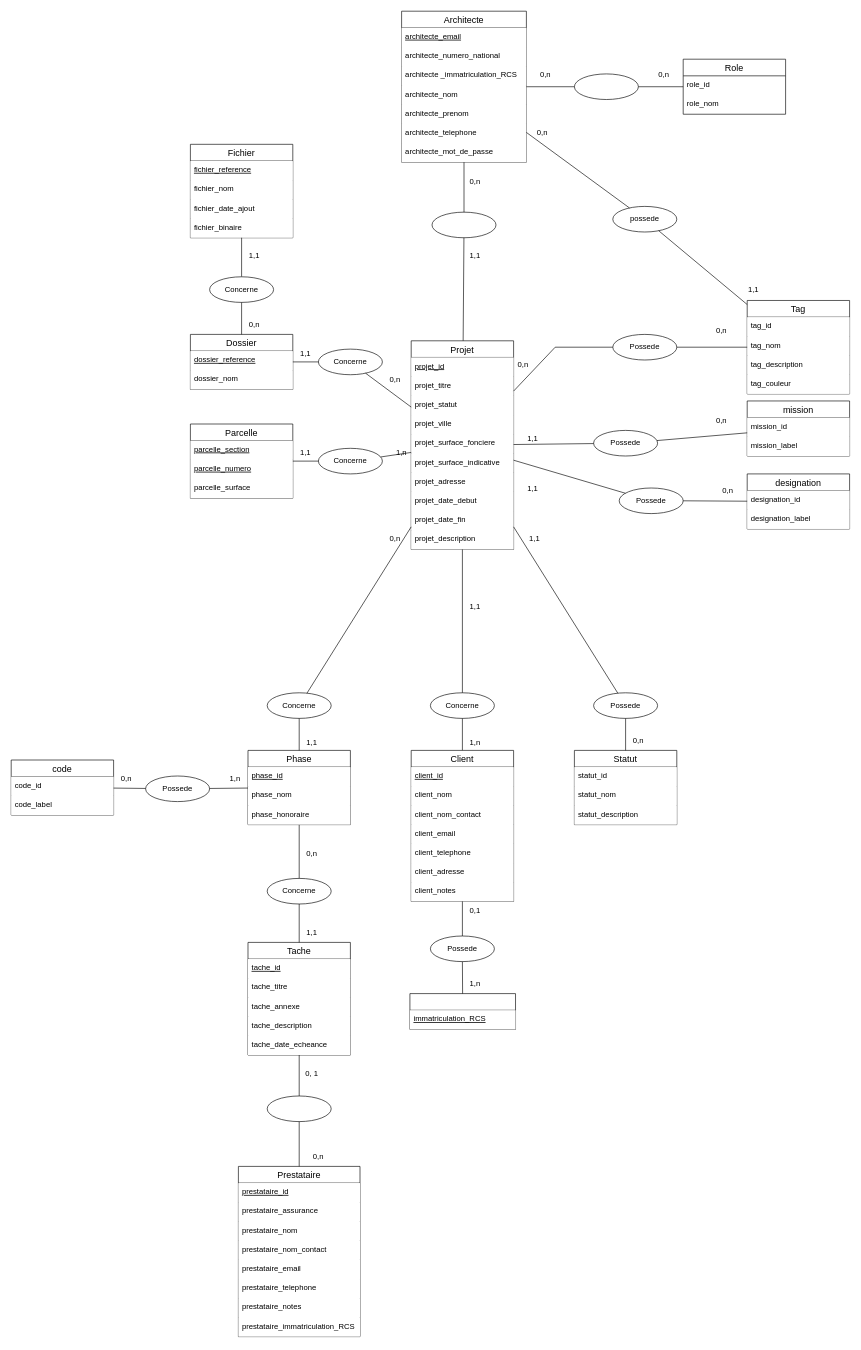
The diagram is 861 pixels wide and 1350 high, and some of its shapes have lost their labels. The box of each missing label's shape, as (x1, y1, x2, y2) in pixels:
Assigner: (267, 1095, 331, 1122)
concernce: (574, 73, 638, 100)
Realise: (431, 212, 496, 238)
Siret: (409, 993, 516, 1029)
